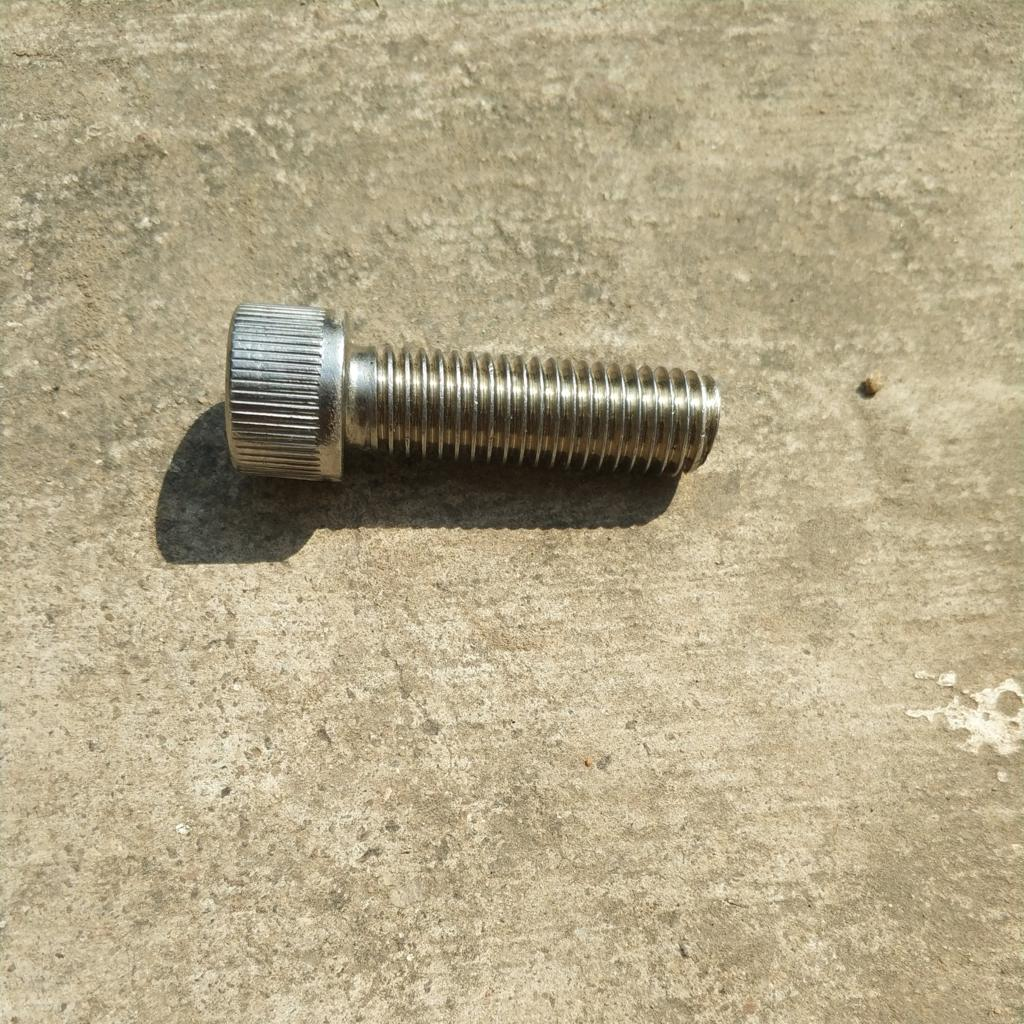screwtype1silver: (220, 297, 727, 486)
